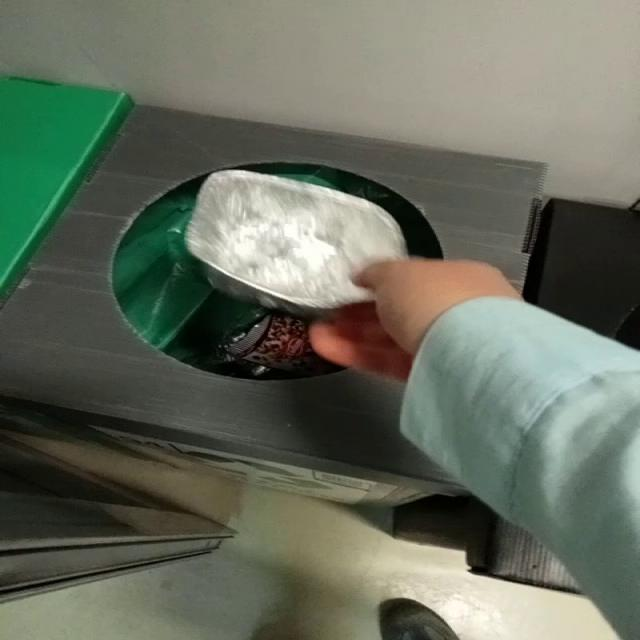bin: (1, 105, 547, 504)
metal: (185, 169, 408, 318)
